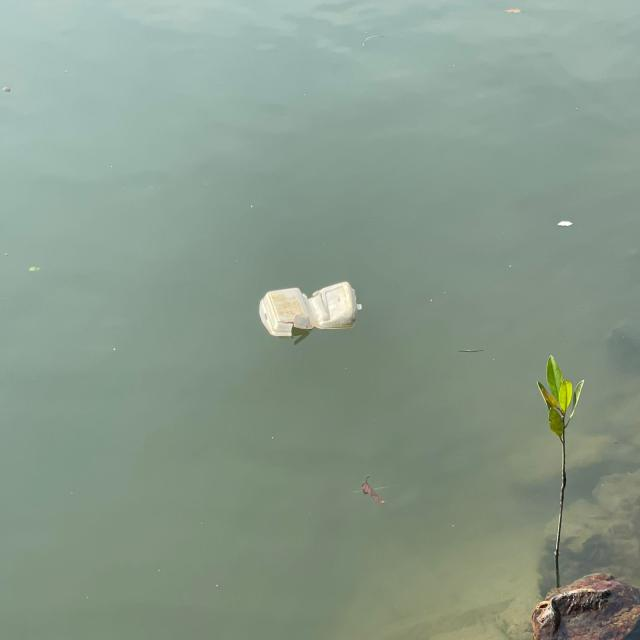Bungkus Makanan: (257, 275, 365, 344)
